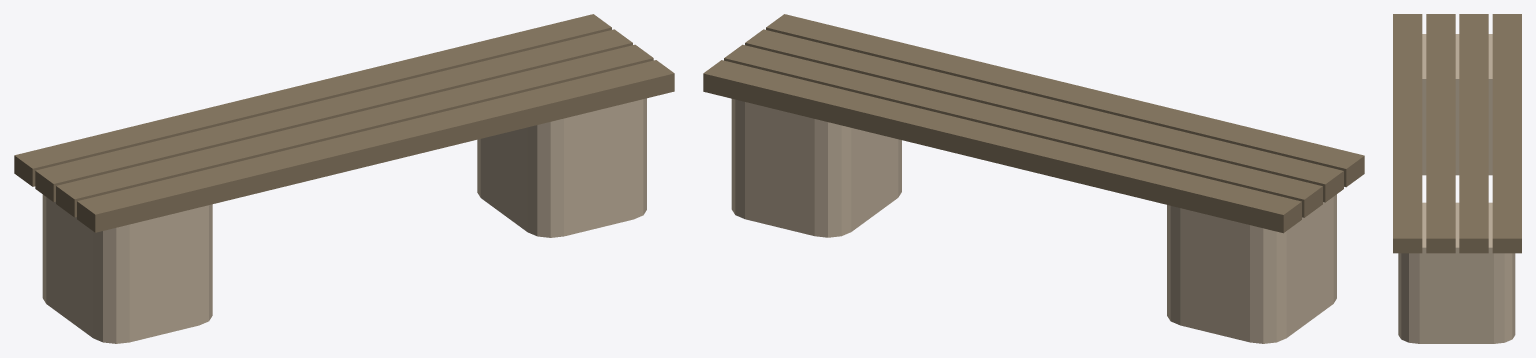
Rendered from city_bench.glb.
3 views of the same model, side by side, from view 1: azimuth 30°, elevation 25°; view 2: azimuth 150°, elevation 25°; view 3: azimuth 270°, elevation 25° (orthographic). The views are drawn at different scales.
Visible parts, largest first — view 1: CityBench_Slat0, CityBench_Block-0.75, CityBench_Block0.75, CityBench_Slat3, CityBench_Slat1, CityBench_Slat2; view 2: CityBench_Slat3, CityBench_Block-0.75, CityBench_Block0.75, CityBench_Slat1, CityBench_Slat0, CityBench_Slat2; view 3: CityBench_Block0.75, CityBench_Slat1, CityBench_Slat2, CityBench_Slat0, CityBench_Slat3, CityBench_Block-0.75.
Part boxes in pixels (left/top/right/bottom): CityBench_Slat0: left=77, top=60, right=674, bottom=232; CityBench_Block-0.75: left=42, top=194, right=212, bottom=343; CityBench_Block0.75: left=477, top=98, right=646, bottom=237; CityBench_Slat3: left=14, top=14, right=611, bottom=186; CityBench_Slat1: left=56, top=44, right=653, bottom=217; CityBench_Slat2: left=35, top=29, right=632, bottom=202; CityBench_Slat3: left=703, top=60, right=1301, bottom=233; CityBench_Block-0.75: left=1167, top=194, right=1336, bottom=343; CityBench_Block0.75: left=731, top=99, right=901, bottom=237; CityBench_Slat1: left=745, top=29, right=1343, bottom=202; CityBench_Slat0: left=766, top=14, right=1364, bottom=187; CityBench_Slat2: left=724, top=44, right=1322, bottom=217; CityBench_Block0.75: left=1398, top=202, right=1515, bottom=343; CityBench_Slat1: left=1426, top=14, right=1455, bottom=253; CityBench_Slat2: left=1459, top=14, right=1488, bottom=253; CityBench_Slat0: left=1393, top=14, right=1422, bottom=253; CityBench_Slat3: left=1492, top=14, right=1521, bottom=253; CityBench_Block-0.75: left=1422, top=34, right=1492, bottom=175.
Size of the model in its own units: 2 by 0.46 by 0.485.
